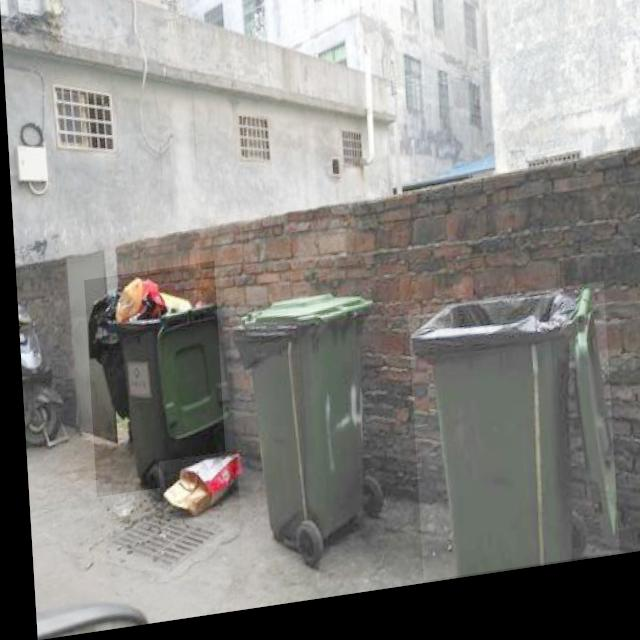garbage: (153, 456, 237, 519)
garbage_bin: (403, 299, 612, 593), (224, 295, 377, 560)
overflow: (80, 267, 221, 499)
